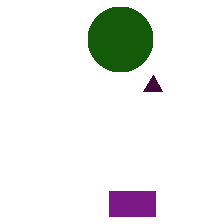circle: (88, 7, 152, 71)
rectangle: (109, 191, 155, 216)
triangle: (143, 75, 162, 91)
